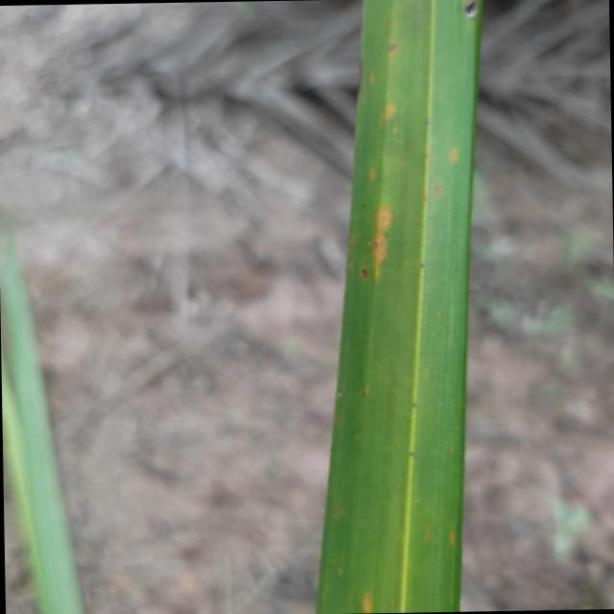Kalium: (318, 0, 483, 614)
